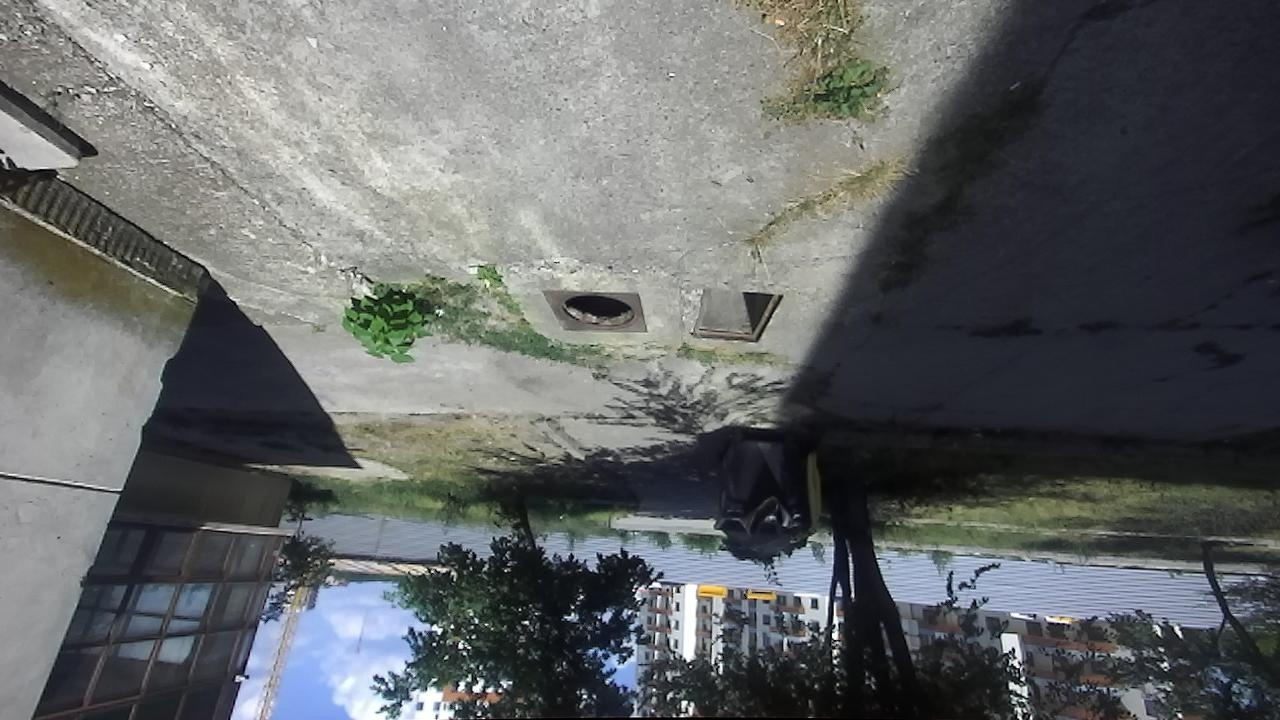drain: (687, 286, 784, 344), (556, 294, 641, 333)
